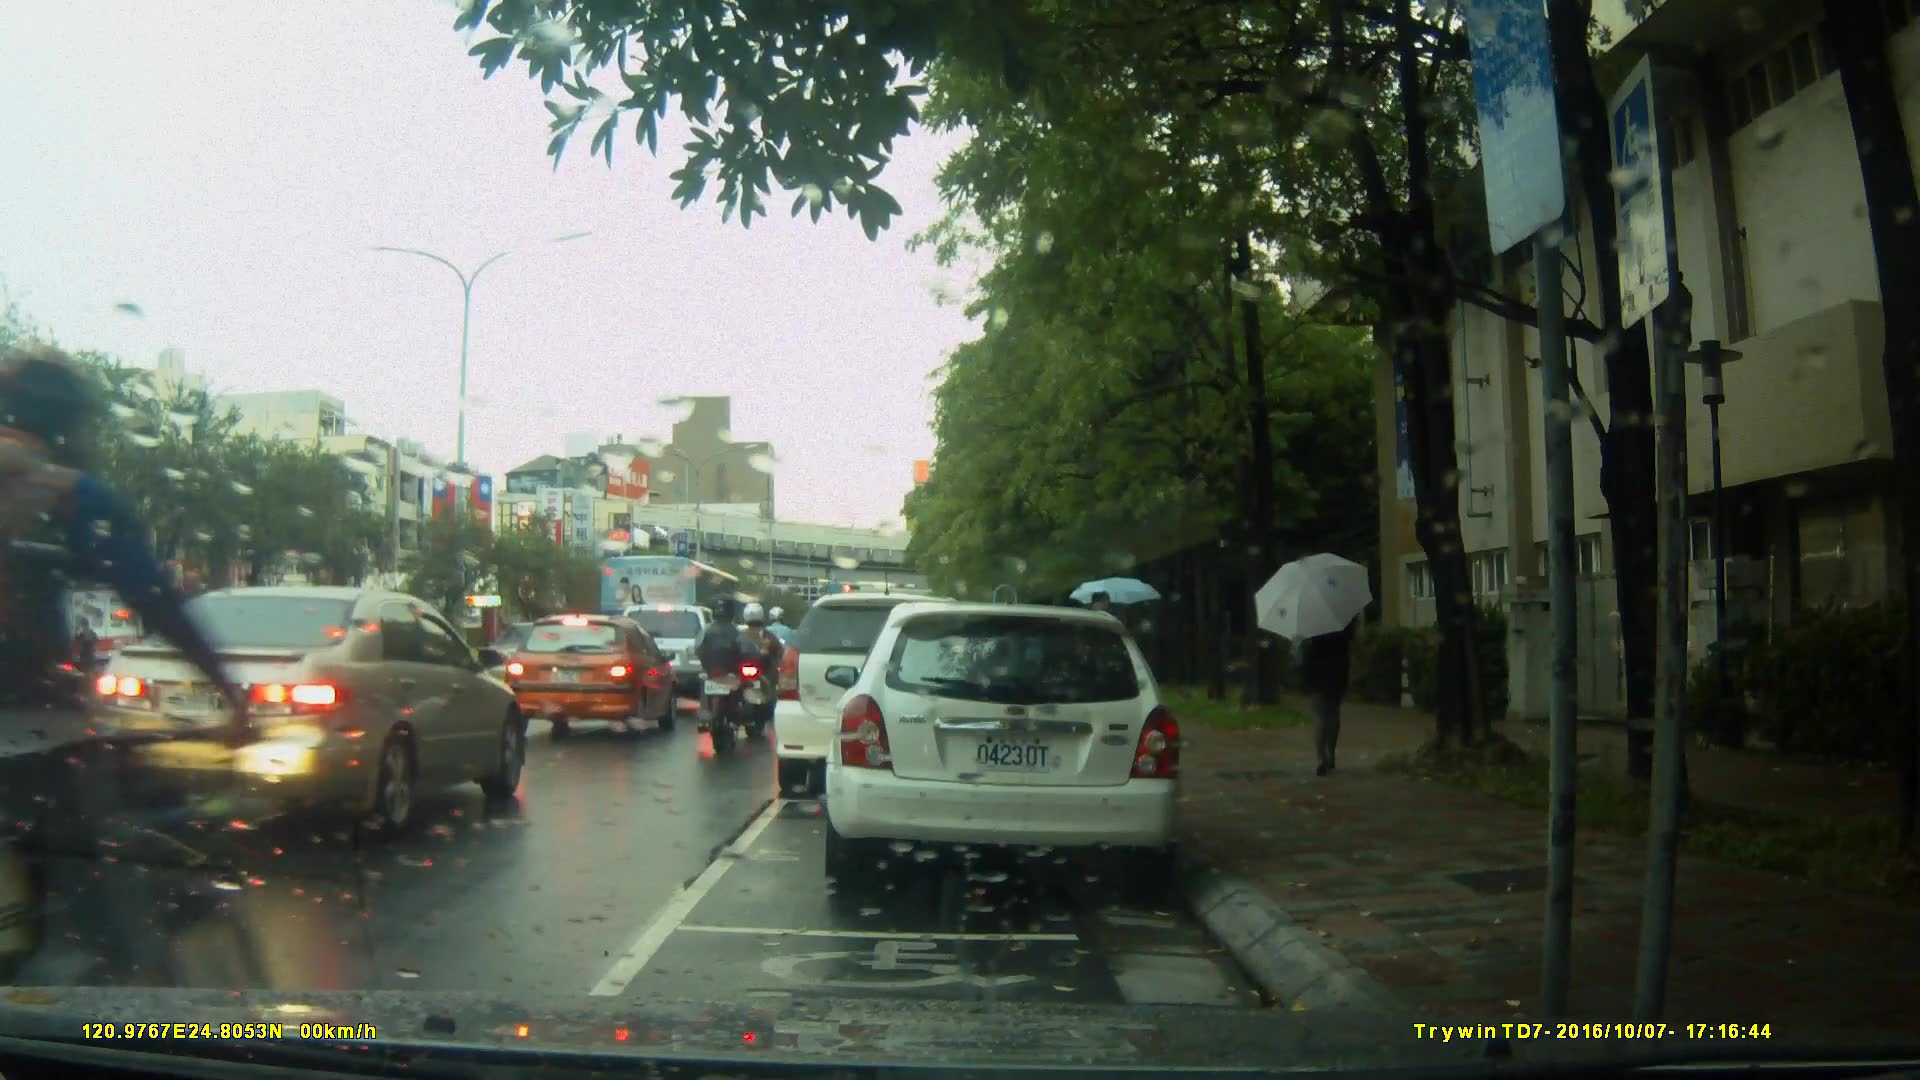pedestrian: (1283, 564, 1373, 779), (1093, 578, 1133, 761)
rider: (1, 365, 295, 1080), (699, 597, 763, 762), (740, 602, 785, 745), (754, 603, 801, 713)
vehicle: (86, 584, 533, 842), (835, 594, 1194, 898), (776, 590, 1026, 784), (504, 613, 676, 732), (594, 552, 750, 672)
